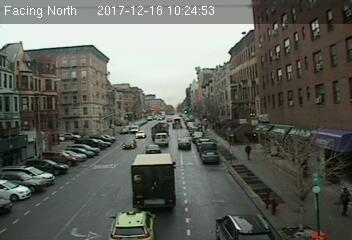car: (215, 212, 273, 240), (199, 150, 221, 163), (176, 138, 191, 148)
truck: (155, 134, 168, 146)
ups: (130, 152, 177, 212)
